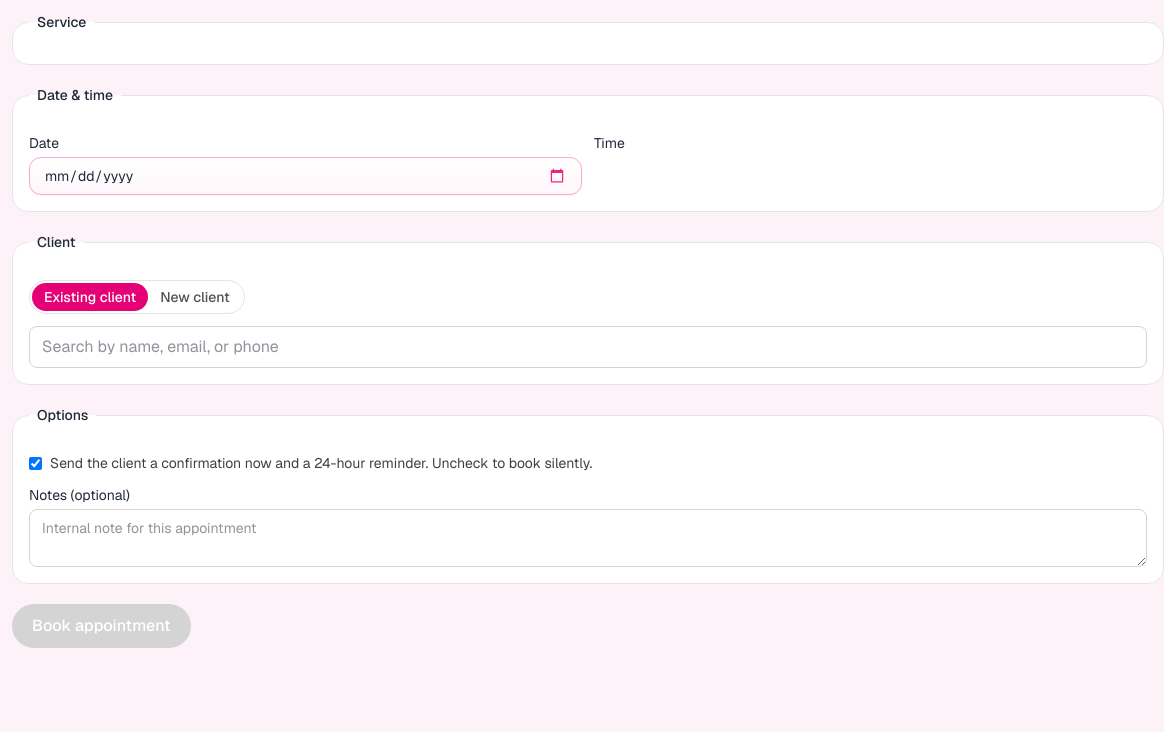
AdminBookingForm submit gating › disables submit until a new client's details and a date are filled in
expect the button "Book appointment" is disabled: met, box [12,604,191,648]
Click the button "New client". click: coordinates (195, 297)
box: [148,283,242,311]
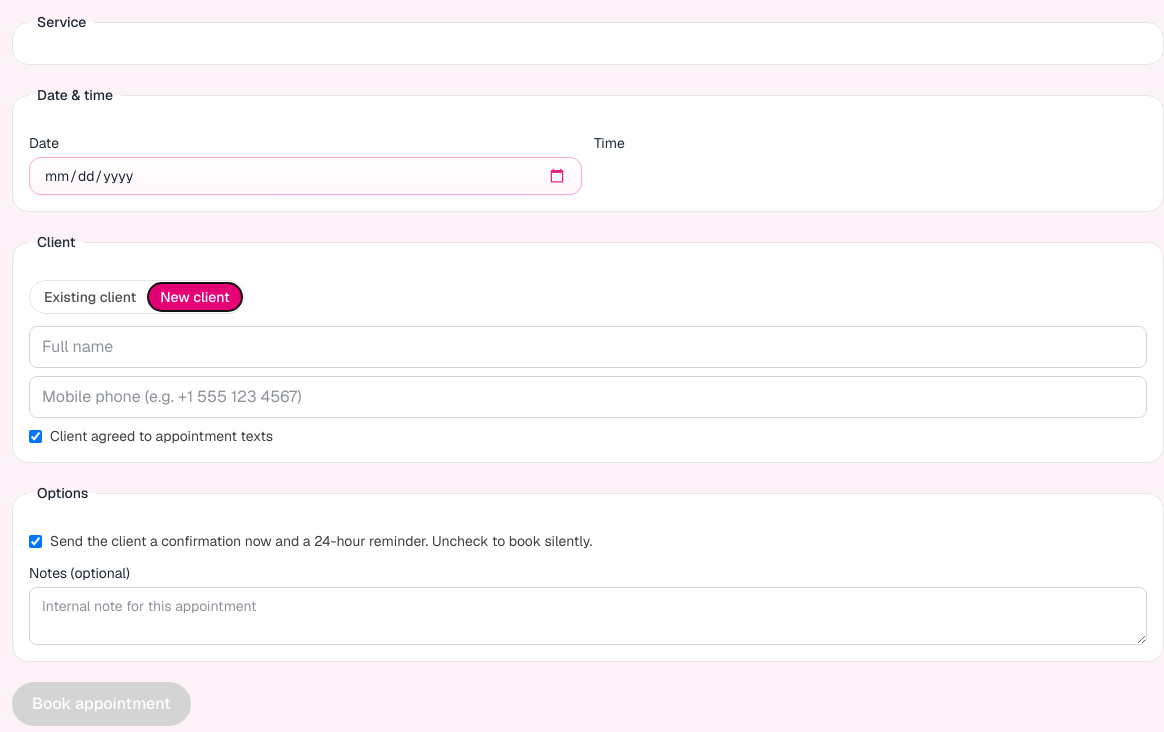
Type "Jane Doe" into the field with placeholder "Full name". click: coordinates (588, 347)
box: [29,326,1147,368]
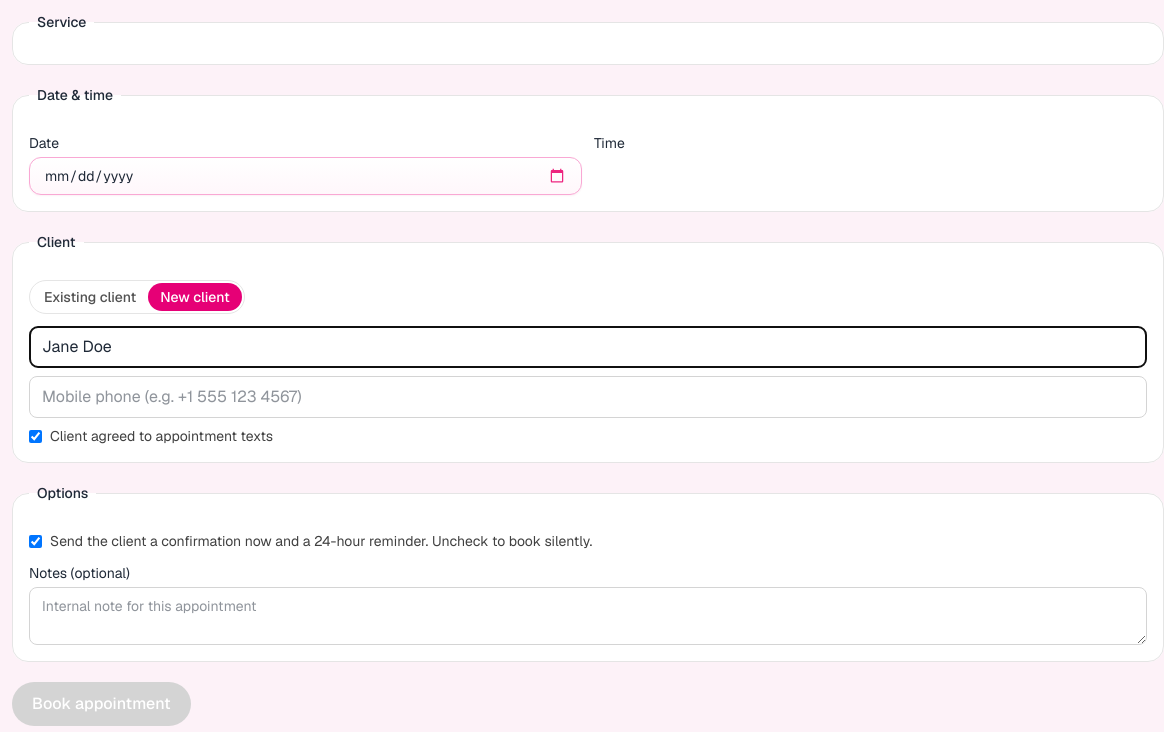
Type "+15555551212" into the field with placeholder "Mobile phone (e.g. +1 555 123 4567)". click: coordinates (588, 397)
box: [29,376,1147,418]
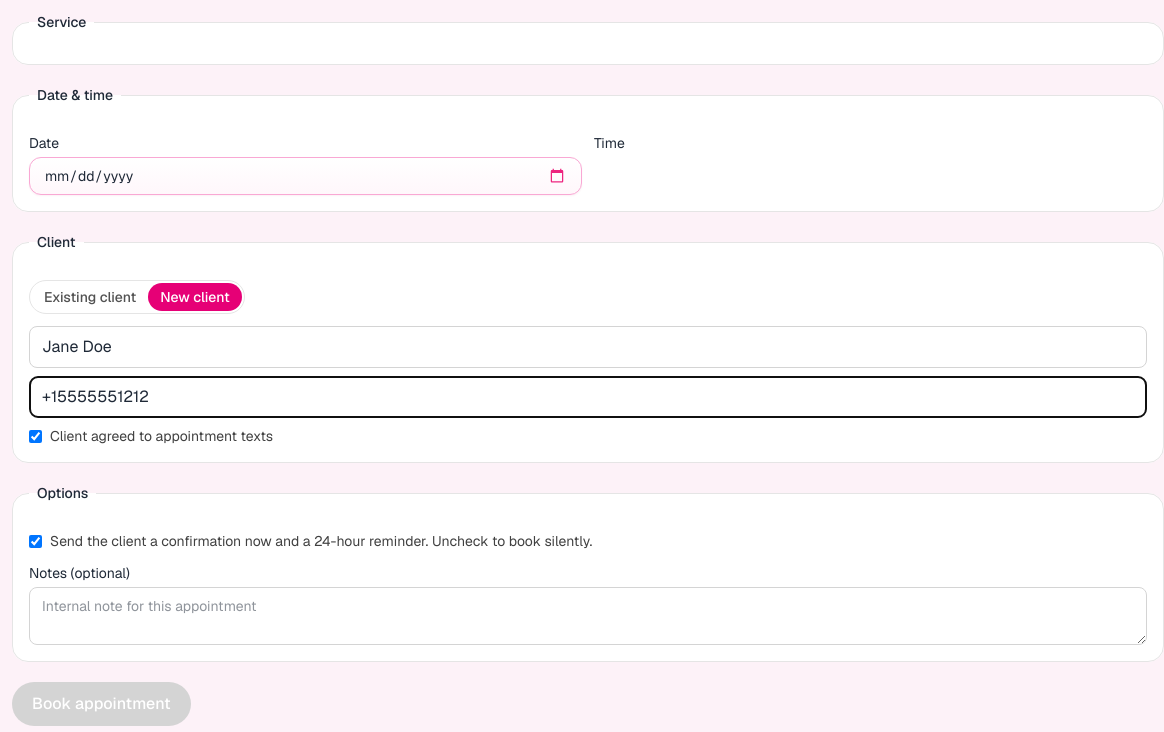
expect the button "Book appointment" is disabled: met, box [12,682,191,726]
Type "2099-07-01" into the date field labelled "Date". click: coordinates (306, 176)
box: [29,157,582,195]
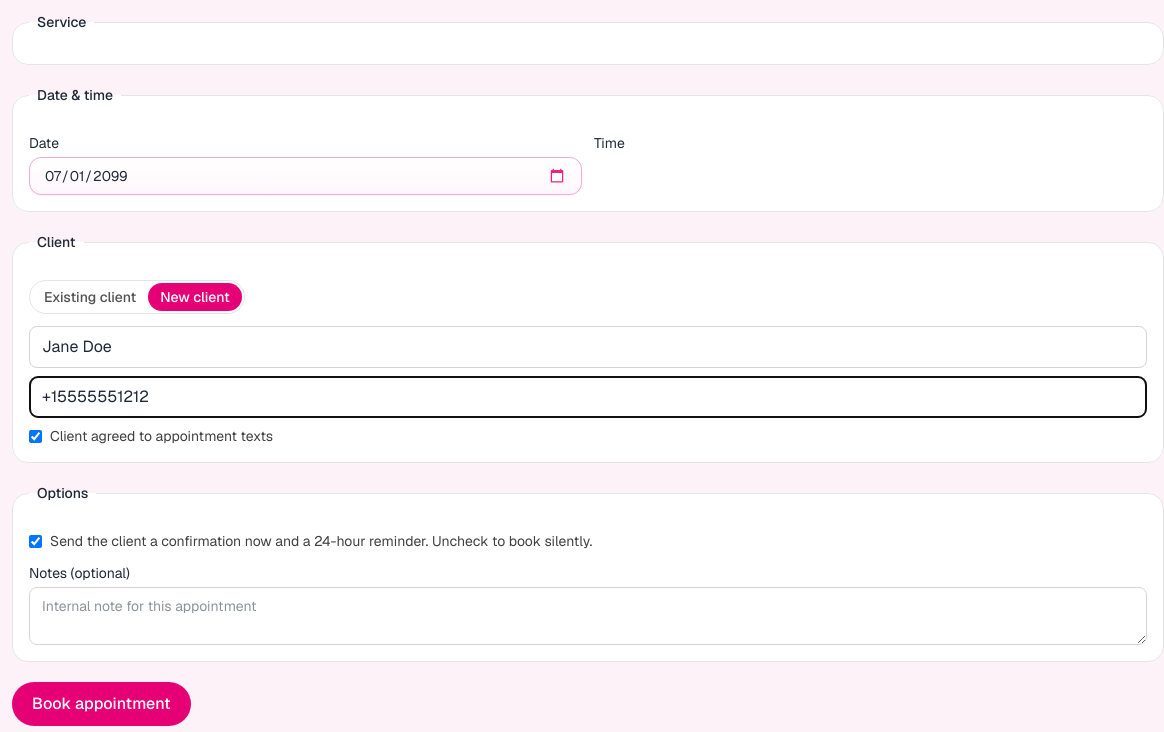
expect the button "Book appointment" is enabled: met, box [12,682,191,726]
